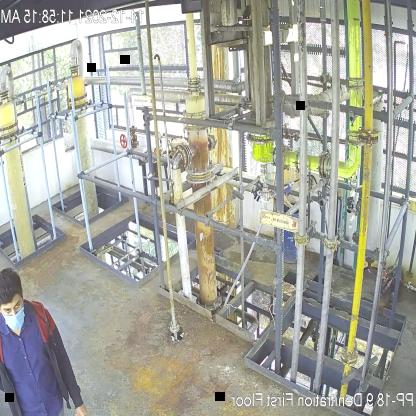no_goggles: (1, 299, 25, 316)
